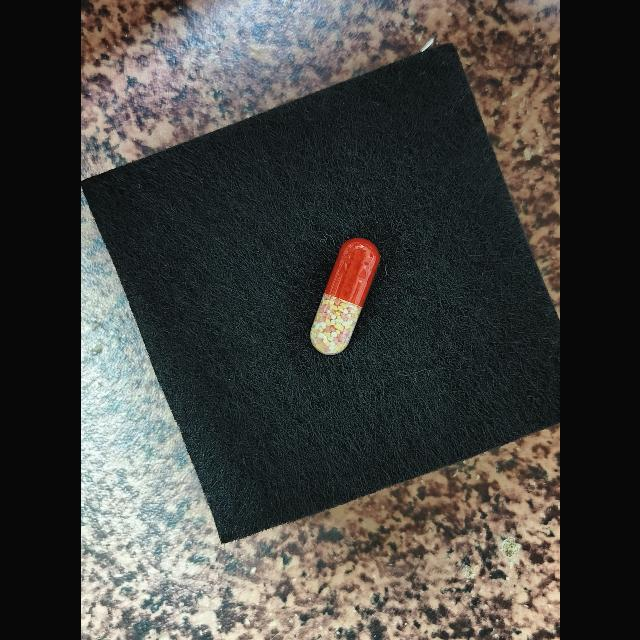Intact Capsule: (310, 238, 380, 355)
